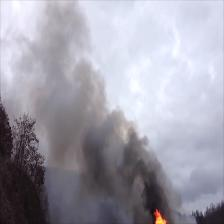fire: (155, 207, 164, 224)
smoke: (41, 8, 84, 140), (88, 111, 136, 195), (137, 154, 163, 207)
